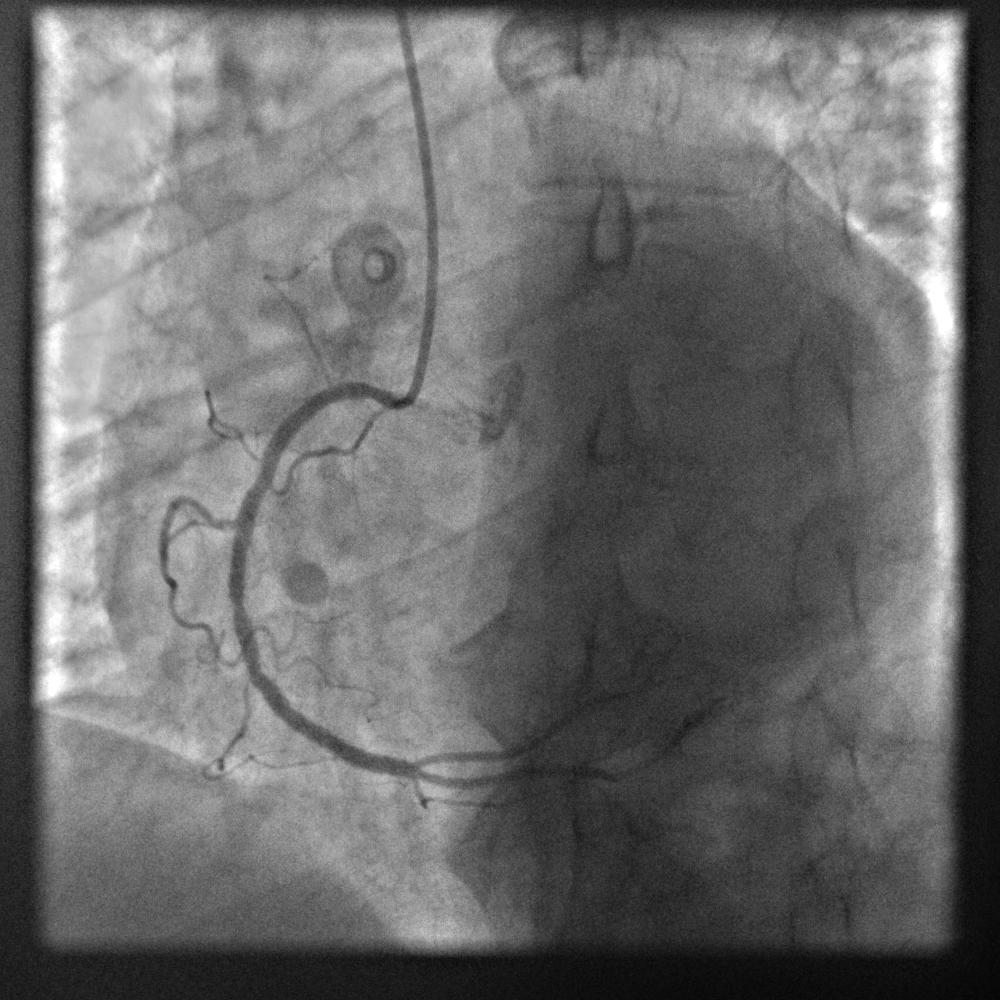Stenosis: (240, 456, 282, 508)
